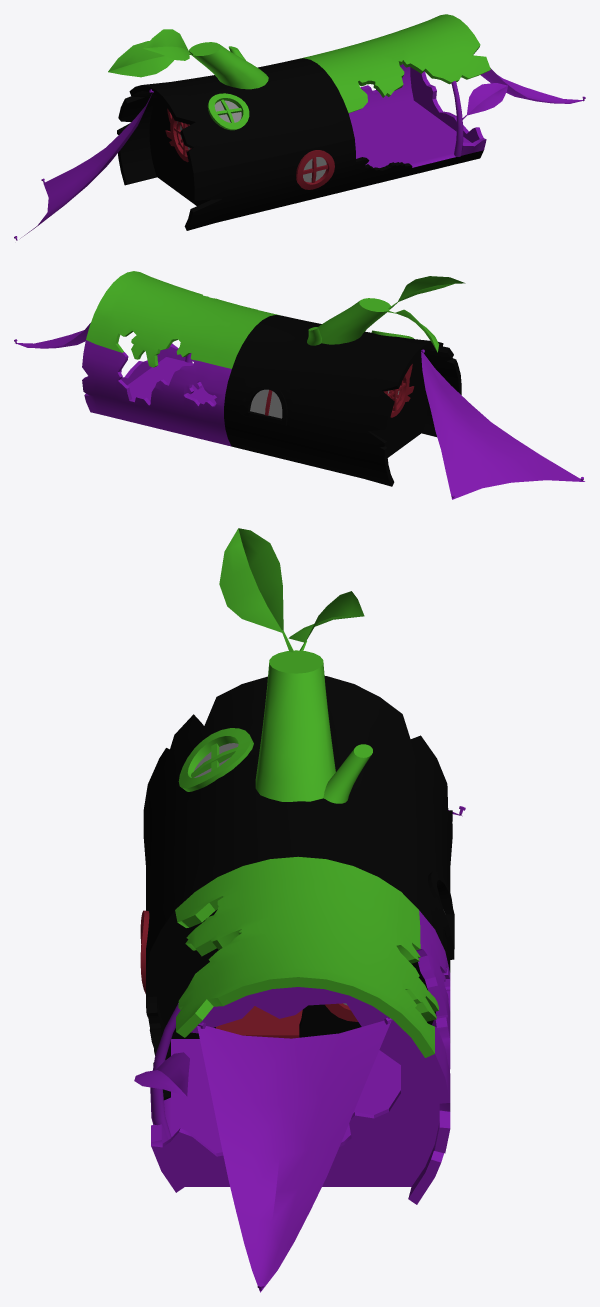
Rendered from SM_House.fbx.
The picture shows the model from 3 angles, top to bottom: view 1: azimuth 30°, elevation 25°; view 2: azimuth 150°, elevation 25°; view 3: azimuth 270°, elevation 25°; orthographic projection. The views are drawn at different scales.
Visible parts, largest first — view 1: SM_House_Roof, SM_House_Wall_Front, SM_House_Roof_Workshop, SM_House_Ground_Workshop, SM_House_Wall_CatWindow, SM_Fabric_002, SM_House_Wall_Back, SM_House_Wall_Workshop_Side, SM_Pole, SM_House_Wall_Workshop_Back, SM_Fabric_001, SM_Window_Glass_001 (+1 smaller); view 2: SM_House_Roof, SM_House_Wall_Back, SM_House_Roof_Workshop, SM_House_Wall_Workshop_Back, SM_Fabric_002, SM_House_Wall_CatWindow, SM_House_Ground_Workshop, SM_Fabric_001, SM_House_Wall_Workshop_Side, SM_Window_Glass_004, SM_House_Wall_Front; view 3: SM_House_Roof, SM_House_Roof_Workshop, SM_Fabric_001, SM_House_Wall_Workshop_Side, SM_House_Wall_Back, SM_House_Ground_Workshop, SM_House_Wall_Workshop_Back, SM_House_Wall_Door, SM_Pole, SM_House_Wall_Front, SM_House_Ground.
Boxes of the visible parts, box(x1,y1,x2,y2) form: SM_House_Roof: box(108, 29, 354, 173); SM_House_Wall_Front: box(184, 138, 483, 230); SM_House_Roof_Workshop: box(300, 14, 490, 113); SM_House_Ground_Workshop: box(349, 100, 471, 167); SM_House_Wall_CatWindow: box(149, 98, 210, 205); SM_Fabric_002: box(14, 89, 153, 240); SM_House_Wall_Back: box(117, 99, 156, 185); SM_House_Wall_Workshop_Side: box(410, 67, 486, 155); SM_Pole: box(451, 81, 507, 156); SM_House_Wall_Workshop_Back: box(348, 64, 413, 116); SM_Fabric_001: box(480, 68, 585, 103); SM_Window_Glass_001: box(303, 157, 326, 182); SM_House_Roof: box(232, 276, 465, 399); SM_House_Wall_Back: box(224, 369, 394, 486); SM_House_Roof_Workshop: box(86, 271, 280, 368); SM_House_Wall_Workshop_Back: box(82, 340, 231, 446); SM_Fabric_002: box(421, 349, 584, 499); SM_House_Wall_CatWindow: box(370, 354, 428, 457); SM_House_Ground_Workshop: box(127, 357, 216, 404); SM_Fabric_001: box(14, 323, 90, 348); SM_House_Wall_Workshop_Side: box(120, 343, 185, 385); SM_Window_Glass_004: box(250, 389, 282, 418); SM_House_Wall_Front: box(422, 375, 461, 436); SM_House_Roof: box(147, 528, 420, 953); SM_House_Roof_Workshop: box(175, 856, 438, 1057); SM_Fabric_001: box(197, 1017, 392, 1292); SM_House_Wall_Workshop_Side: box(151, 987, 439, 1192); SM_House_Wall_Back: box(419, 736, 454, 972); SM_House_Ground_Workshop: box(164, 1039, 400, 1153); SM_House_Wall_Workshop_Back: box(408, 910, 450, 1204); SM_House_Wall_Door: box(157, 909, 435, 1038); SM_Pole: box(134, 1003, 189, 1139); SM_House_Wall_Front: box(140, 785, 170, 1100); SM_House_Ground: box(216, 1006, 302, 1038).
Bounding box in the file's own units: 6029 × 1851 × 1518.
